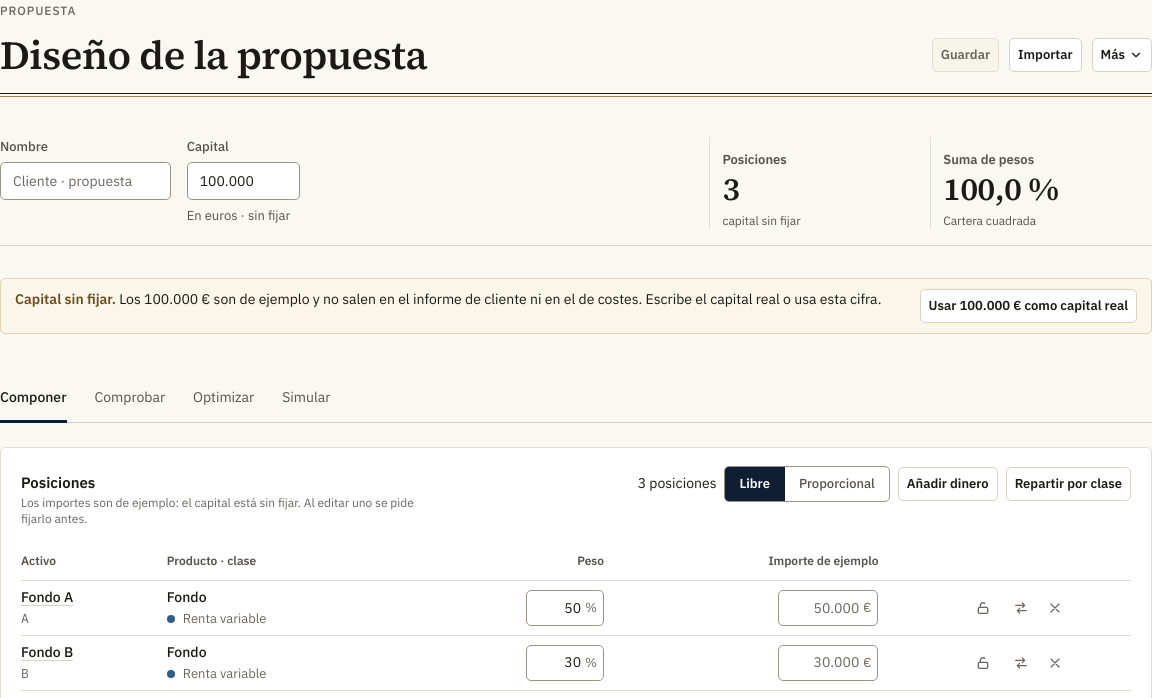
Test: hallazgos 48 y 13: el capital de ejemplo no pasa por real › «Aplicar aportación» también lo pide, y hasta confirmar no dice que se haya aplicado
Step 1. Click the button "Añadir dinero" → (948, 484), box [898,467,998,501]
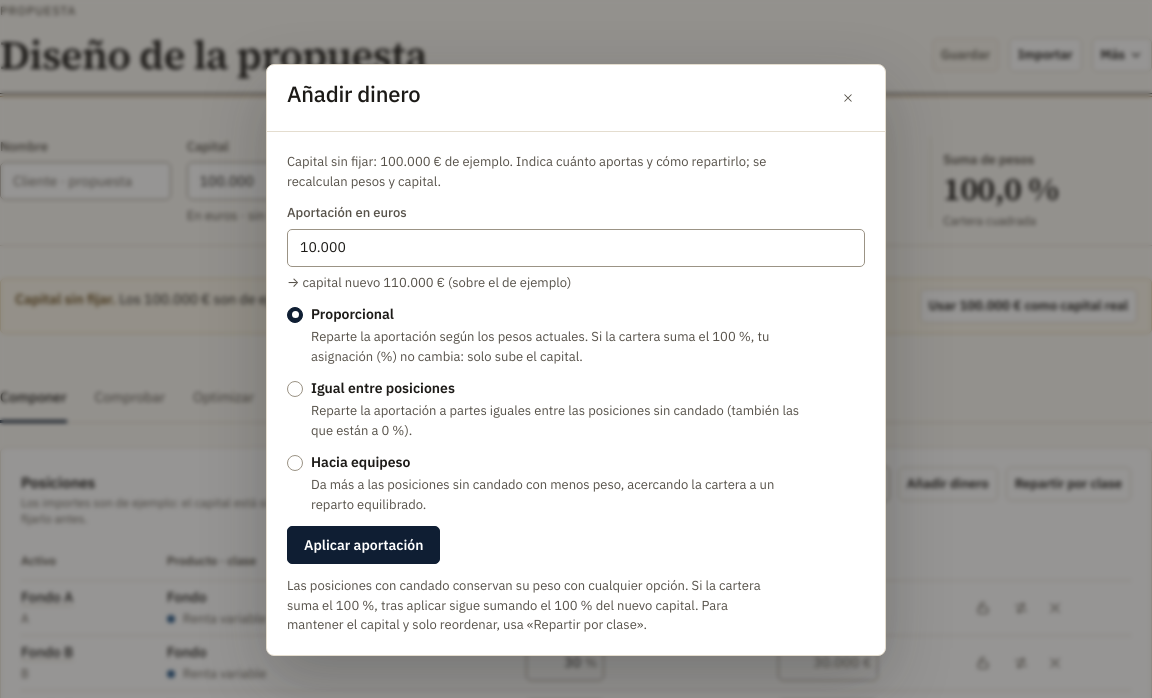
Step 2. Click the button "Aplicar aportación" → (364, 545), box [287,526,440,564]
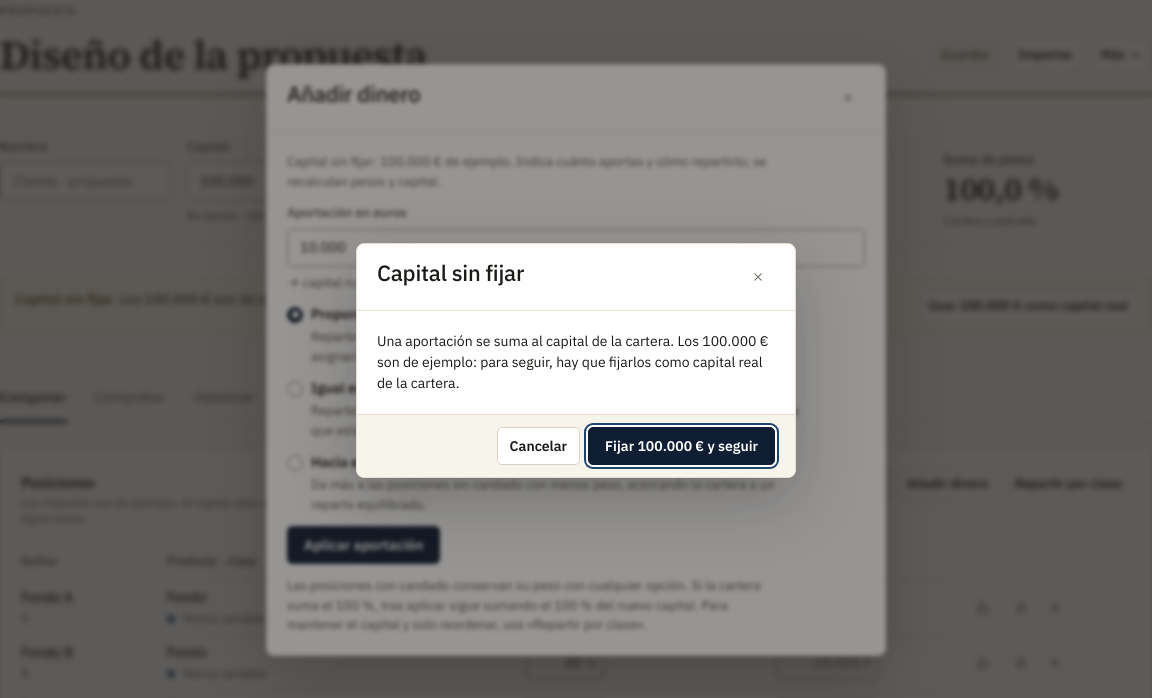
Now the dialog shows "Una aportación se suma al capital", box [377,332,769,392]
Step 3. Click the button "Cancelar" → (538, 446), box [497,426,580,464]
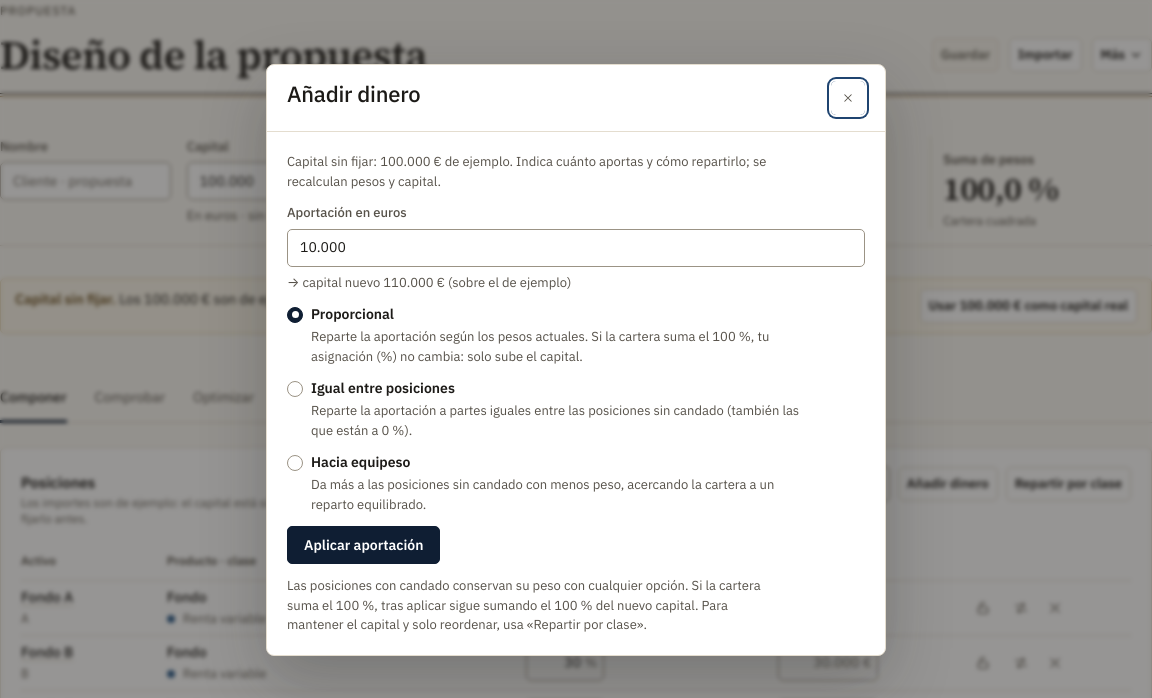
Expected: the text "aplicada" is not shown
Step 4. Click the button "Aplicar aportación" → (364, 545), box [287,526,440,564]
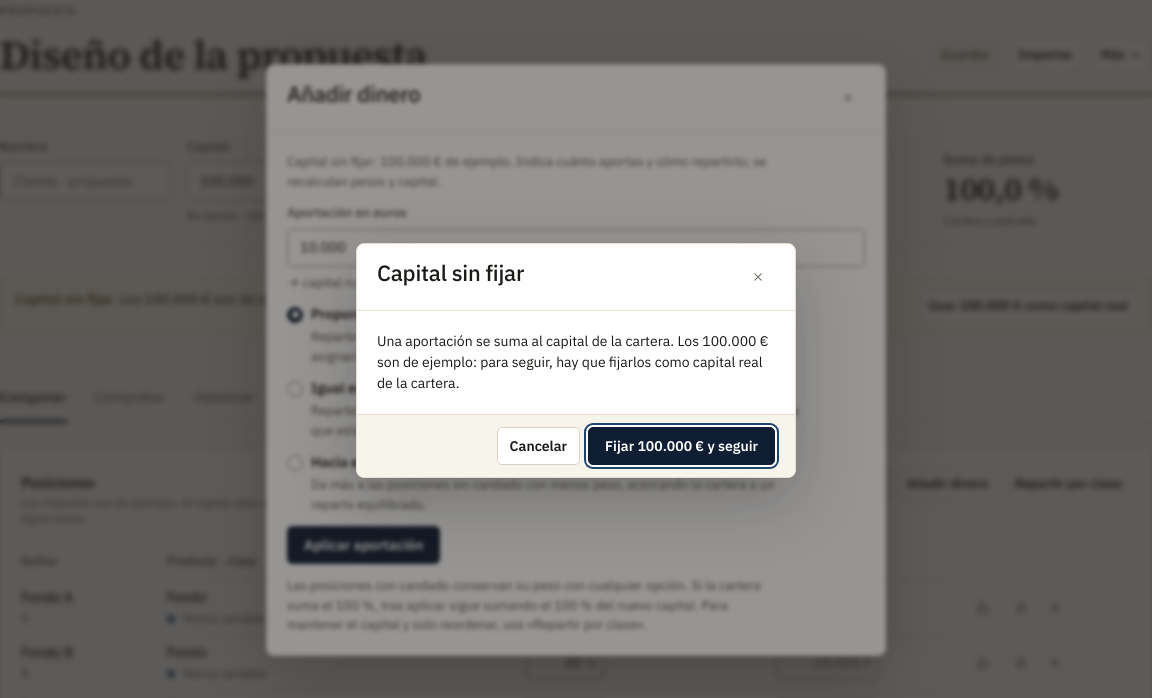
Step 5. Click the button "Fijar 100.000 € y seguir" → (682, 446), box [588,426,775,464]
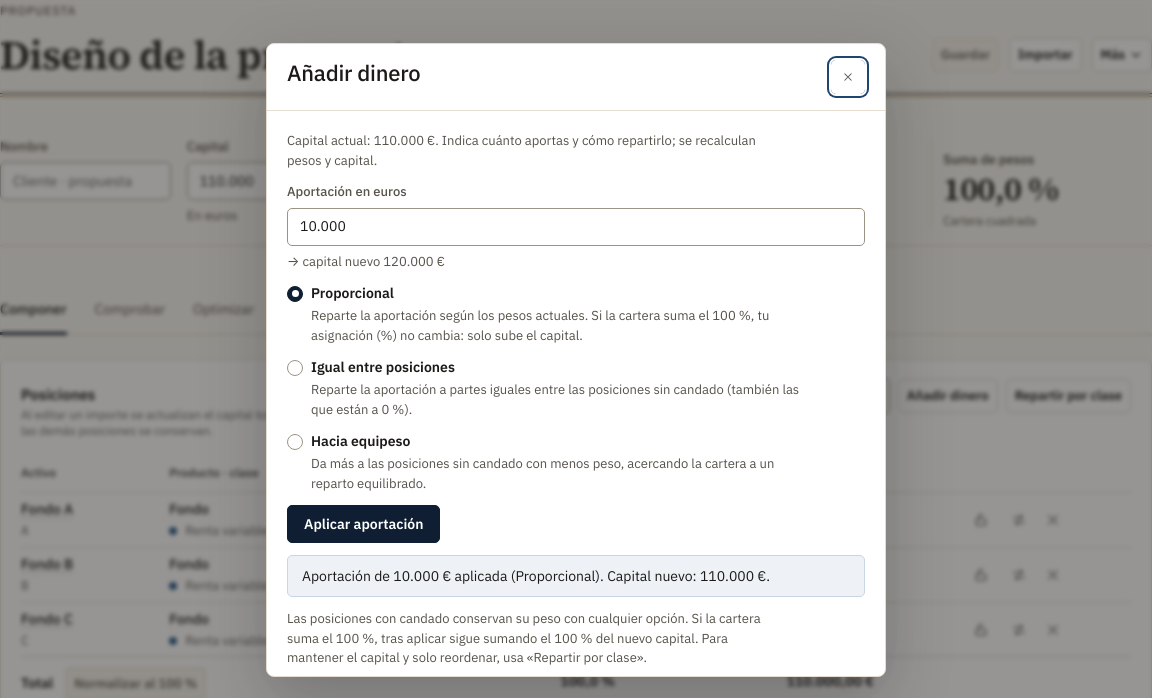
Now the text "aplicada" is shown, box [302,567,770,585]
